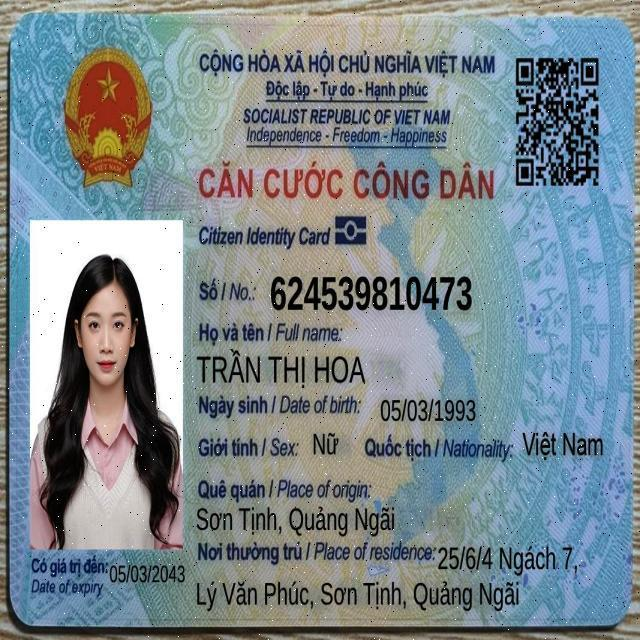current_place: (195, 577, 521, 615), (436, 542, 580, 578)
dob: (378, 396, 478, 426)
expire_date: (108, 562, 186, 585)
gender: (311, 429, 340, 459)
id: (267, 271, 475, 316)
name: (195, 347, 368, 390)
nationality: (521, 430, 605, 462)
origin_place: (194, 503, 397, 539)
